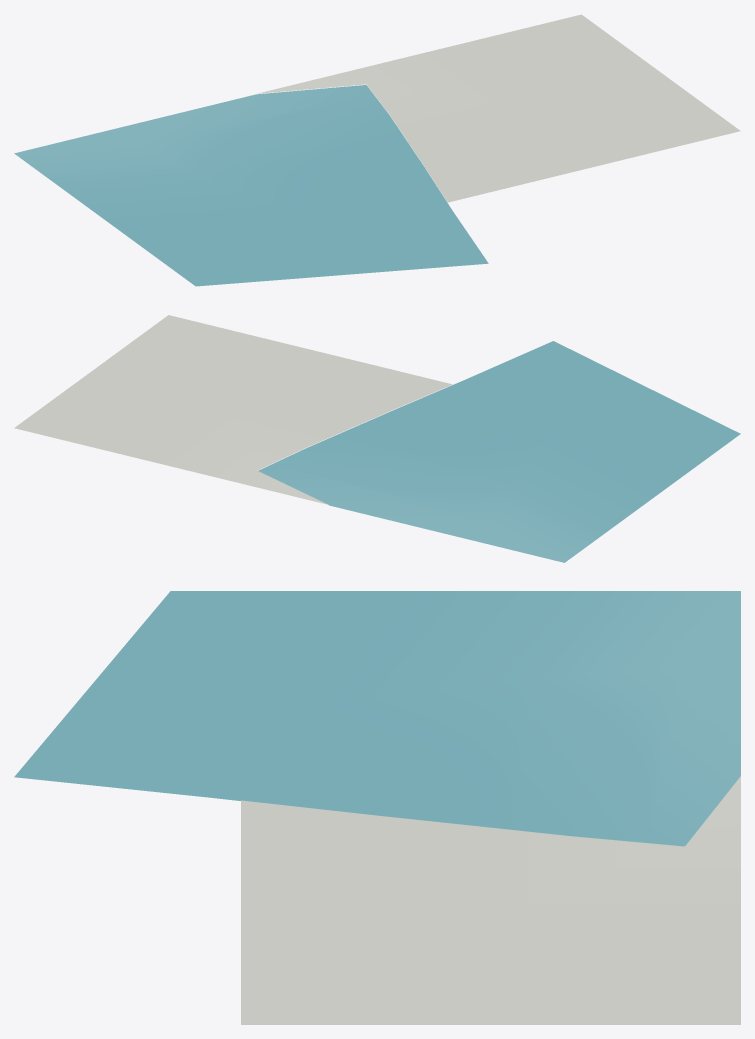
3 renders of one model, top to bottom at view 1: azimuth 30°, elevation 25°; view 2: azimuth 150°, elevation 25°; view 3: azimuth 270°, elevation 25°, orthographic. The views are drawn at different scales.
Parts seen in each view (by area): view 1: city; view 2: city; view 3: city.
Boxes of the visible parts, box(x1,y1,x2,y2) form: city: box(14, 14, 740, 286); city: box(14, 315, 740, 562); city: box(14, 591, 740, 1024).
Size of the model in its own units: 227 by 0.18 by 161.
